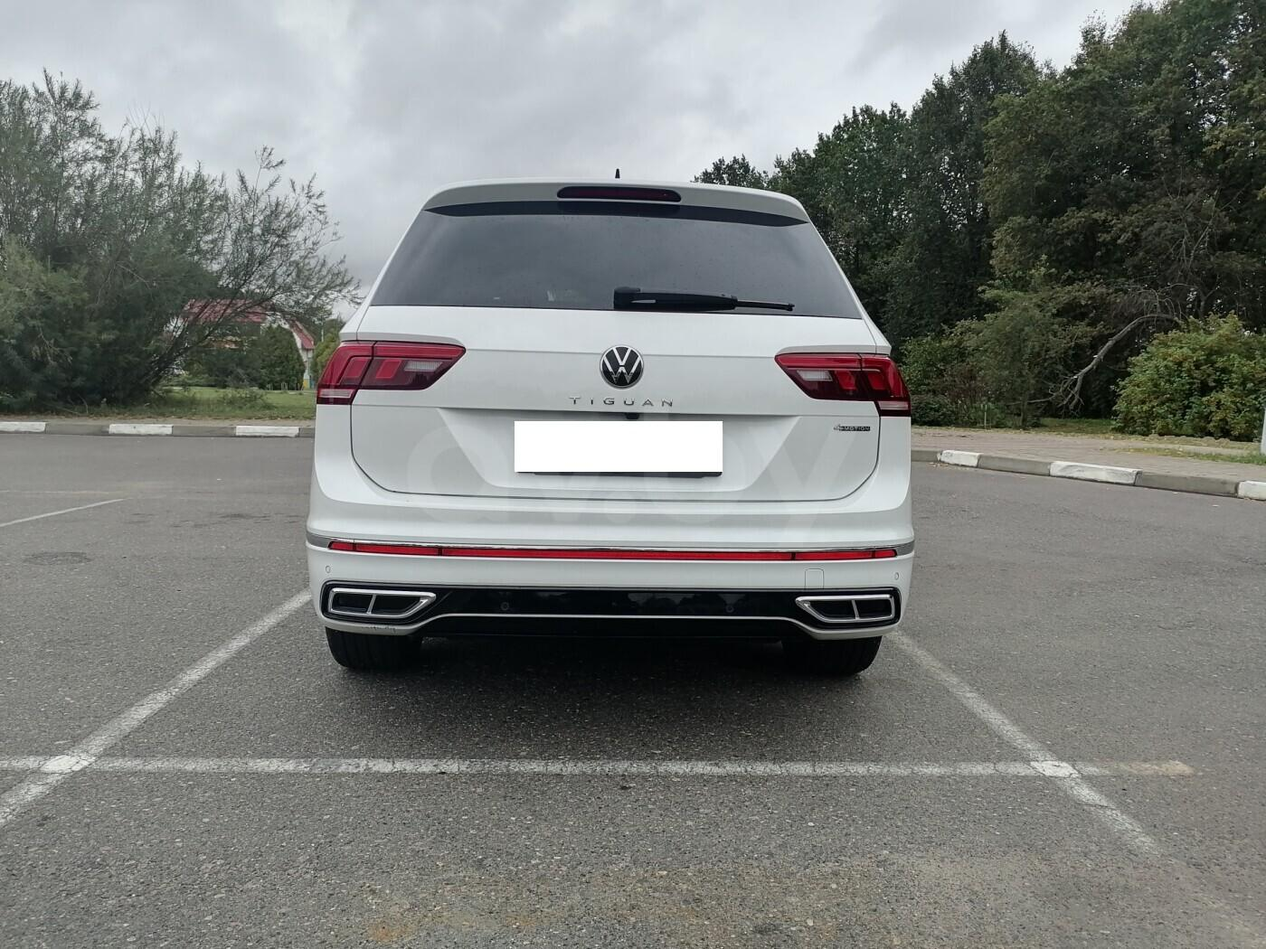Tiguan_2020-2024: (309, 176, 920, 682)
